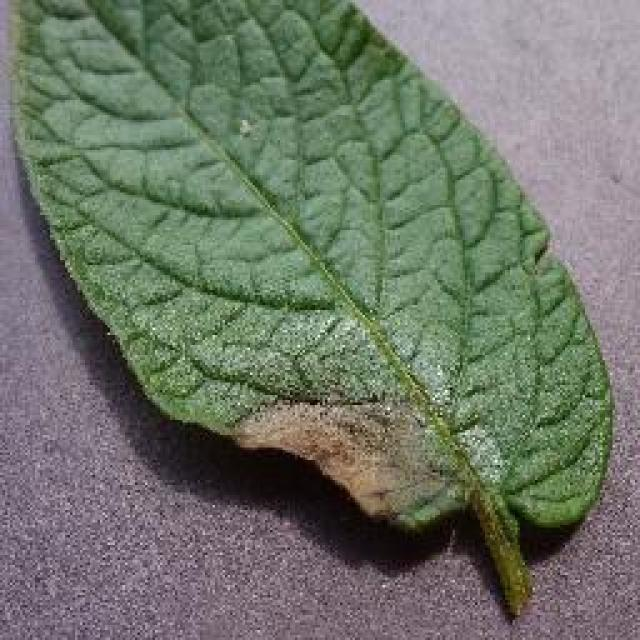Potato: (3, 0, 615, 618)
